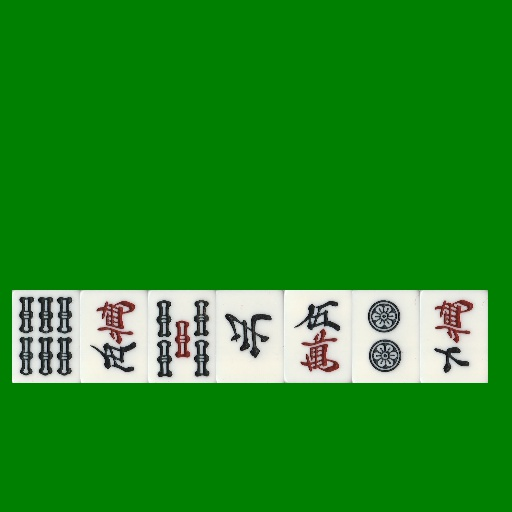2p: (352, 290, 420, 383)
5m: (80, 290, 148, 383), (284, 290, 352, 383)
5s: (148, 290, 216, 383)
6s: (12, 290, 80, 383)
7m: (420, 290, 488, 383)
north: (216, 290, 284, 383)
